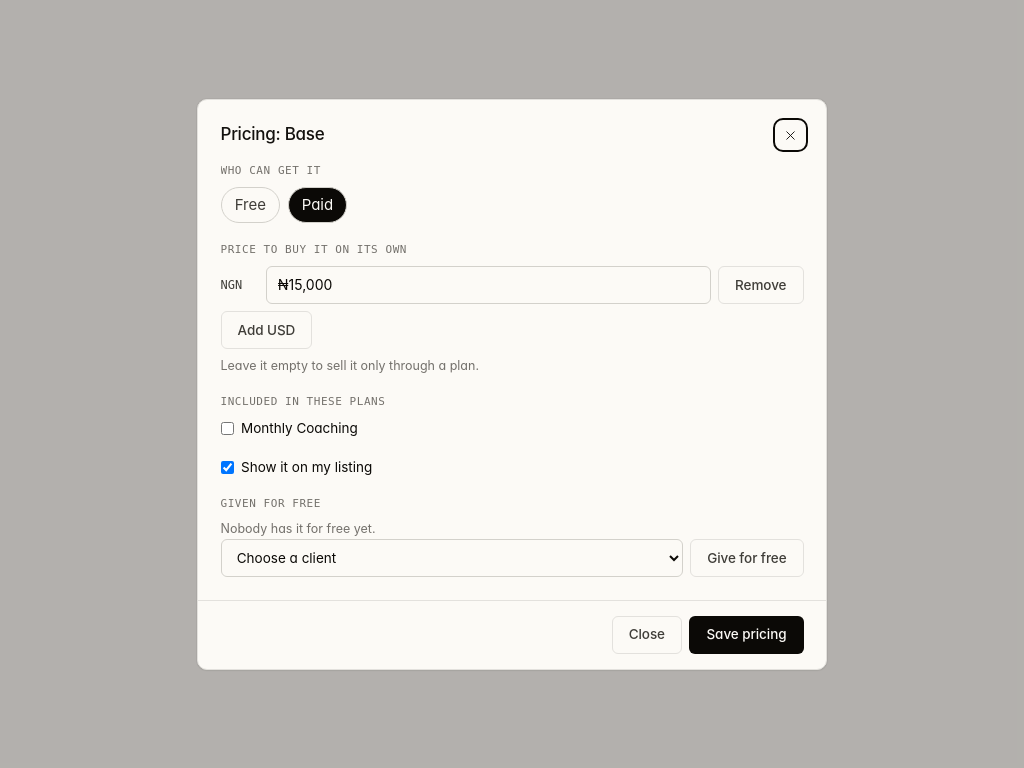
Test: ContentPricingModal: unsaved edits, warnings, grants › asks once (not twice) for the X as well
This screenshot has width=1024, height=768.
Click the checkbox labelled "Show it on my listing" at point(227, 467), box [220,461,234,474]
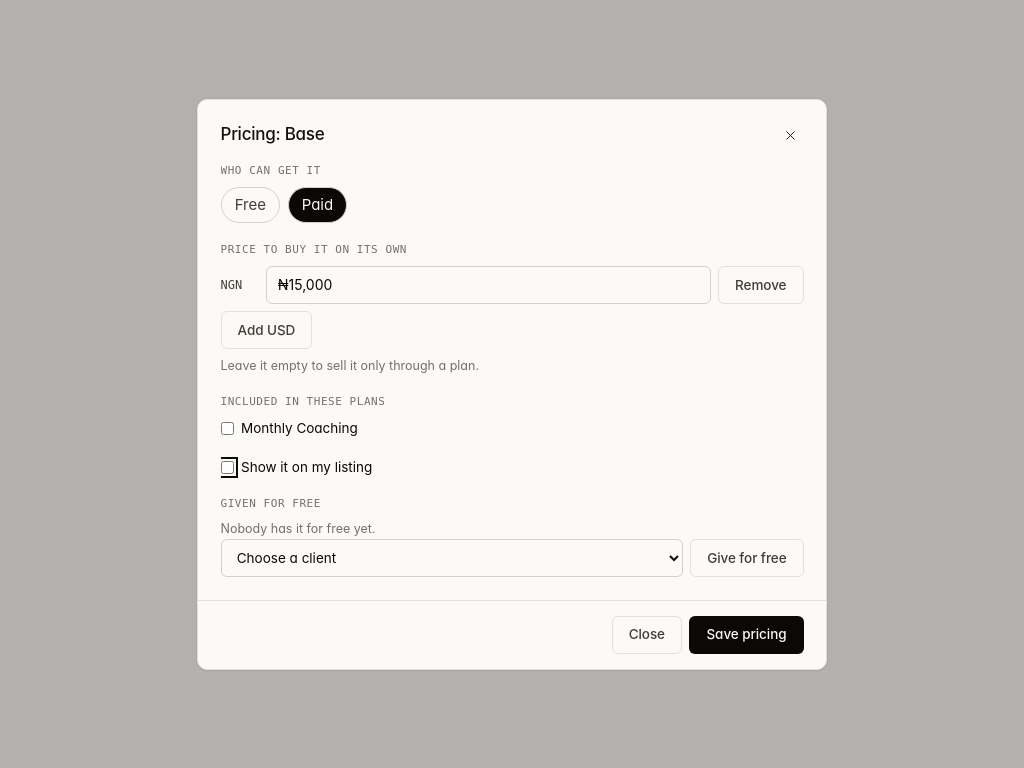
Click the button named "Close" at point(790, 135), box [777,122,804,148]
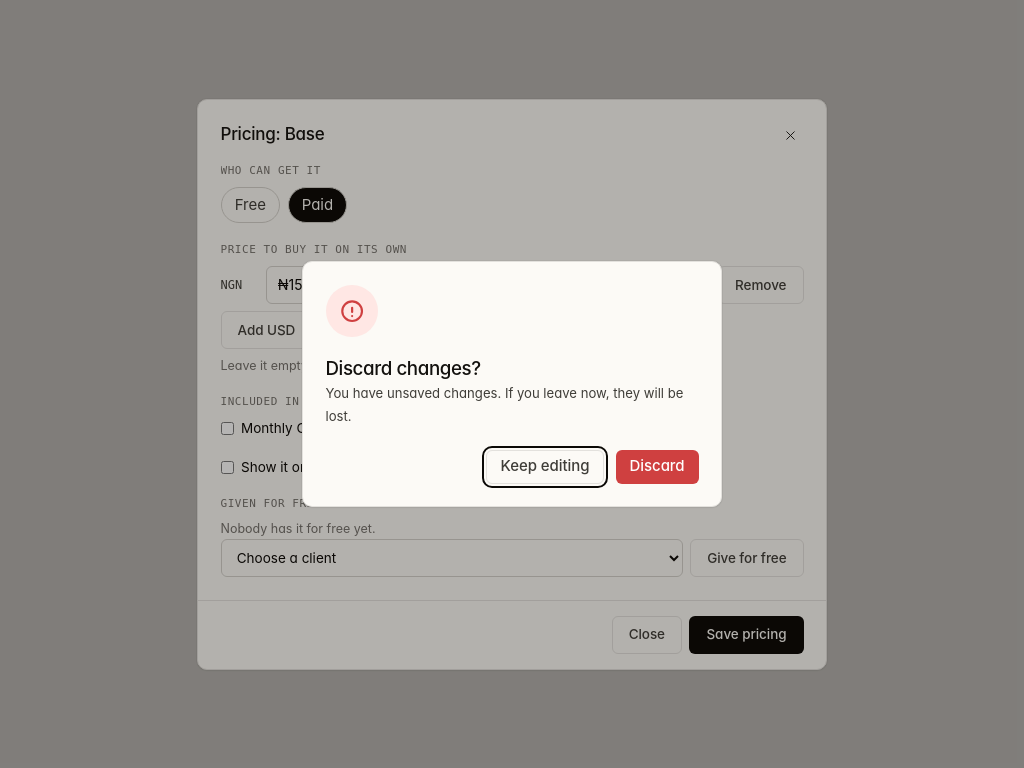
Expected: the number of headings "Discard changes?" is 1, [326,357,481,380]
